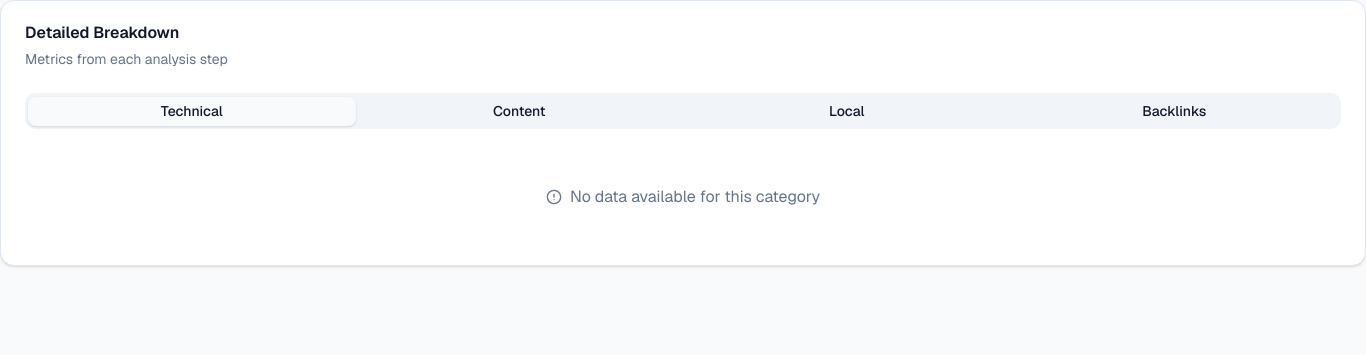
Test case: CategoryBreakdown › content/SERP metrics › displays local pack presence
Click the tab "Content". click: click(519, 111)
box: [356,96,683,126]
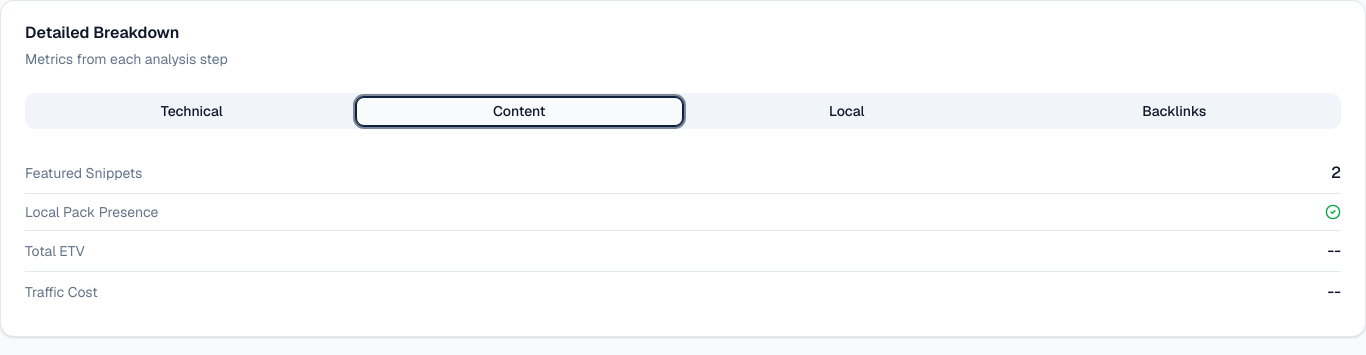
Check: the text "Local Pack Presence" is shown, box [25,202,158,222]
